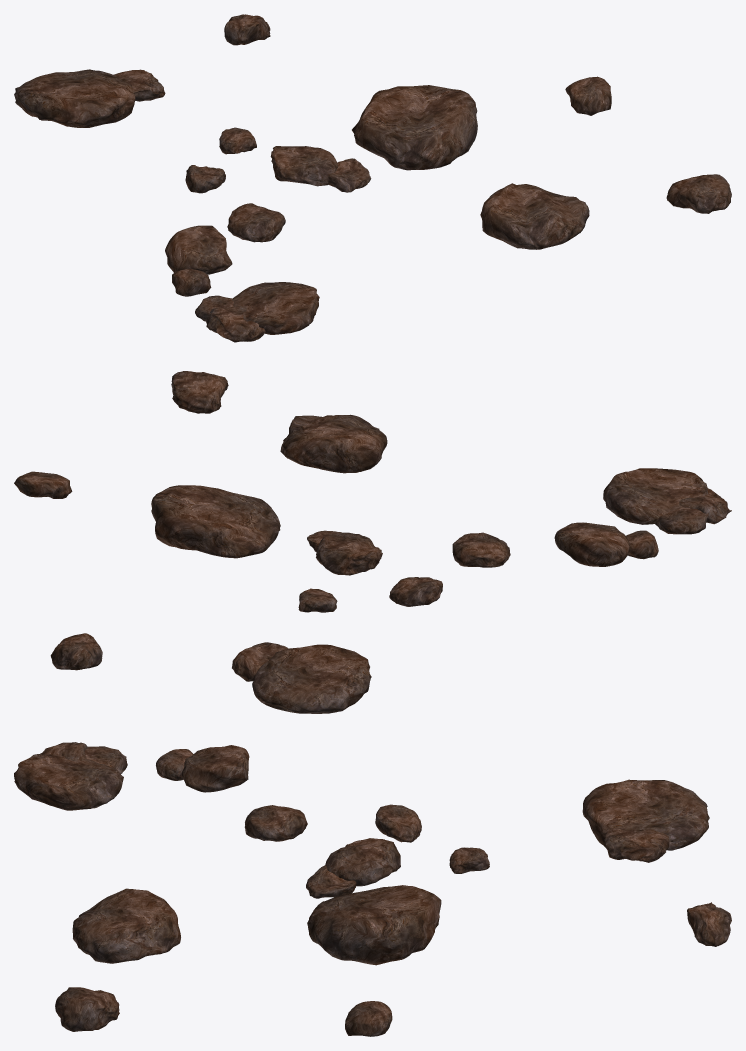
The model's file is shitou_4.fbx.
The picture shows the model from 3 angles, top to bottom: view 1: azimuth 30°, elevation 25°; view 2: azimuth 150°, elevation 25°; view 3: azimuth 270°, elevation 25°; orthographic projection. The views are drawn at different scales.
Parts seen in each view (by area): view 1: shitou2:bolder18; view 2: shitou2:bolder18; view 3: shitou2:bolder18.
Boxes of the visible parts, bbox=[...] form: shitou2:bolder18: bbox=[14, 14, 731, 342]; shitou2:bolder18: bbox=[14, 371, 731, 713]; shitou2:bolder18: bbox=[14, 742, 731, 1036].
Size of the model in its own units: 594 by 47.98 by 627.
Materials: 1 (1 with a texture image).
